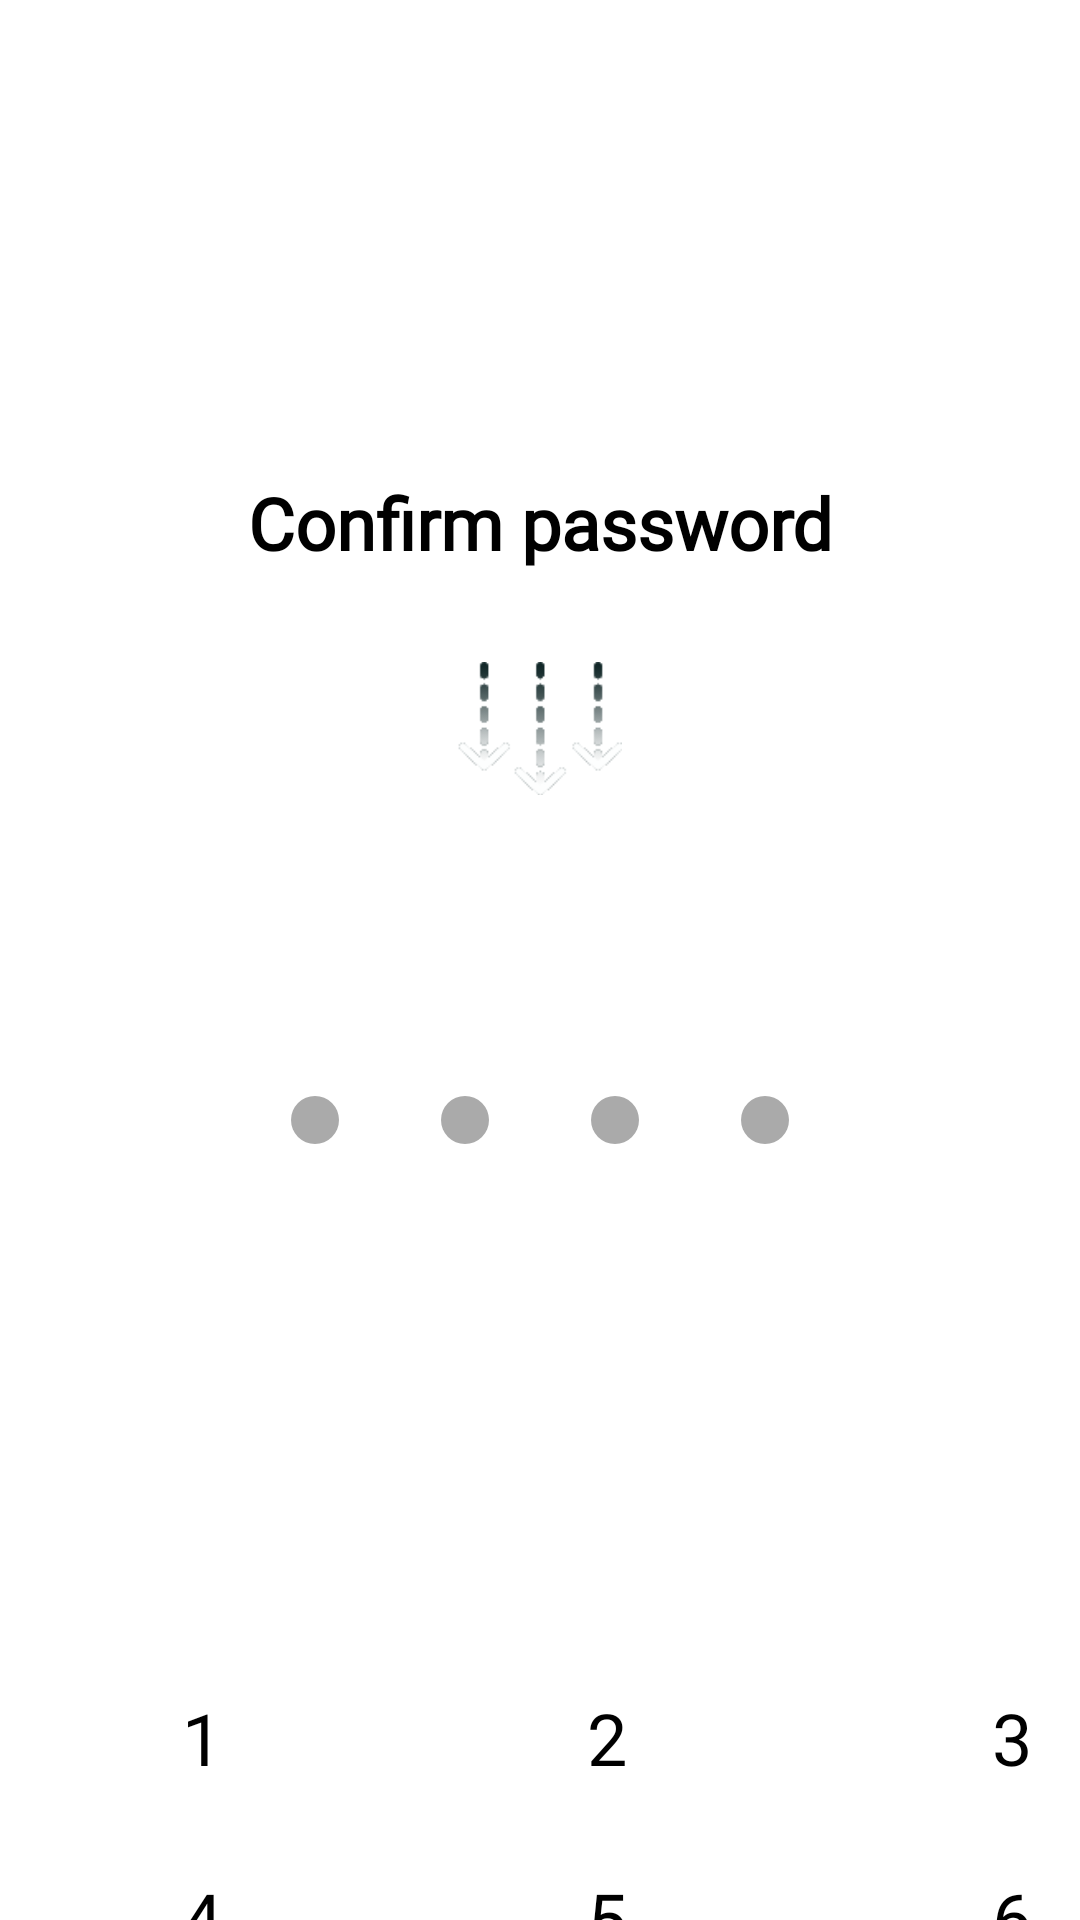

Point at icon controls on the screen. Image size 1080×1920, points as (x,y).
arrow: (540,728)
password dot empty: (315,1120), (465,1120), (615,1120), (765,1120)
